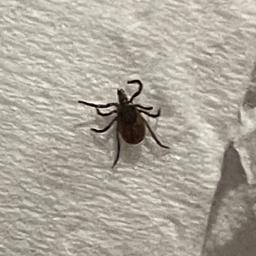Ixodes scapularis: (76, 84, 163, 172)
